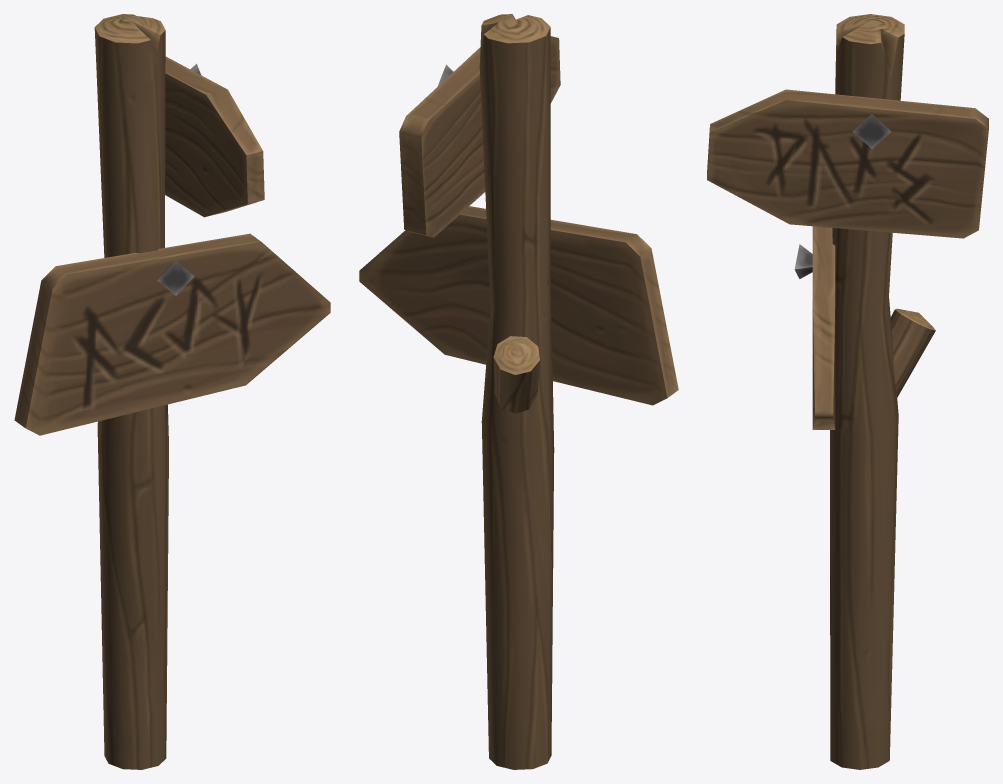
Rendered from Sign2.fbx.
3 renders of one model, left to right at view 1: azimuth 30°, elevation 25°; view 2: azimuth 150°, elevation 25°; view 3: azimuth 270°, elevation 25°, orthographic.
Parts seen in each view (by area): view 1: polySurface2061; view 2: polySurface2061; view 3: polySurface2061.
Part boxes in pixels (<box>): polySurface2061: <box>14,14,330,769</box>; polySurface2061: <box>359,14,678,769</box>; polySurface2061: <box>707,14,988,769</box>.
Size of the model in its own units: 55.71 by 128 by 44.27.
1 material, 1 textured.
